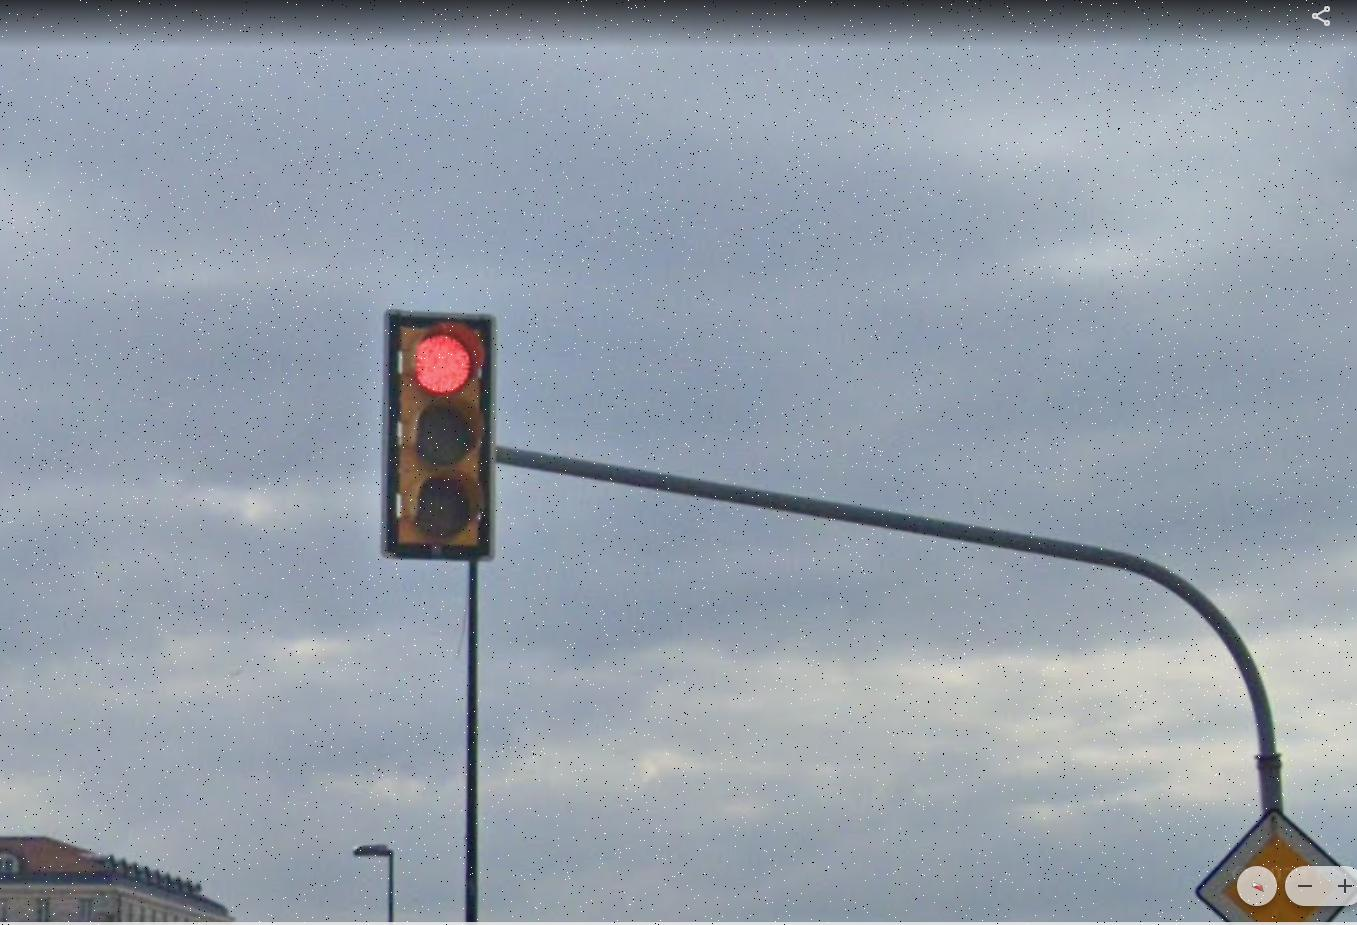redlight: (387, 308, 499, 554)
